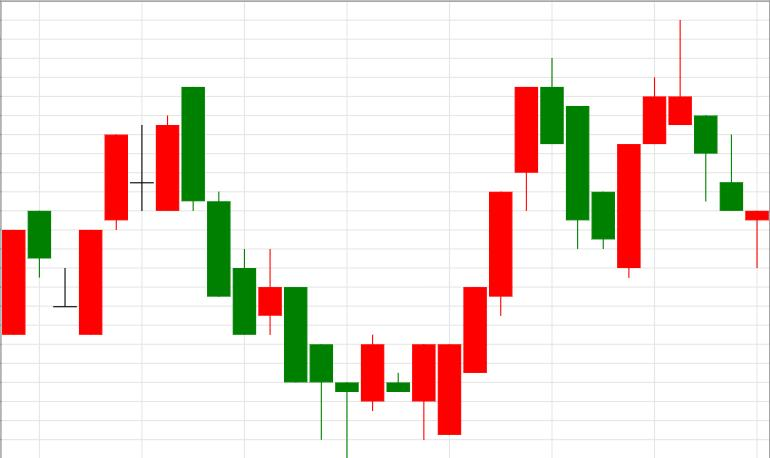bullish_engulfing_rise: (515, 57, 641, 278)
hammer_rise: (182, 87, 333, 440)
shooting_star_fall: (592, 21, 692, 278)
